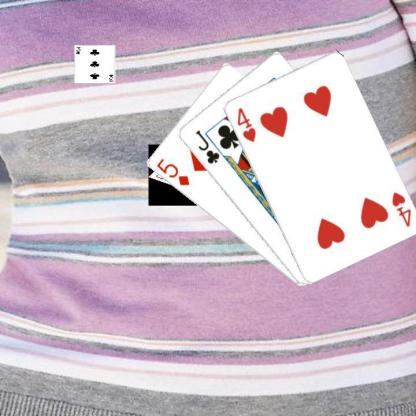4H: (389, 189, 412, 228), (234, 105, 257, 143)
5D: (154, 155, 190, 188)
JC: (192, 127, 221, 165)
